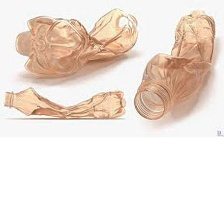bottle: (129, 3, 219, 125), (8, 6, 140, 80), (1, 83, 129, 124)
